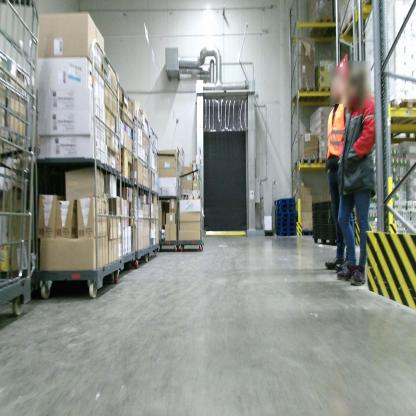pallet: (337, 0, 376, 39), (385, 96, 416, 137), (305, 12, 336, 43), (293, 85, 316, 108), (316, 85, 337, 107), (312, 237, 354, 248), (317, 153, 338, 170), (300, 157, 320, 171), (273, 192, 296, 204), (274, 231, 300, 238), (273, 201, 297, 208), (275, 206, 297, 213), (275, 211, 297, 218), (276, 215, 297, 221), (275, 221, 296, 227), (275, 227, 296, 233), (302, 228, 315, 237)
